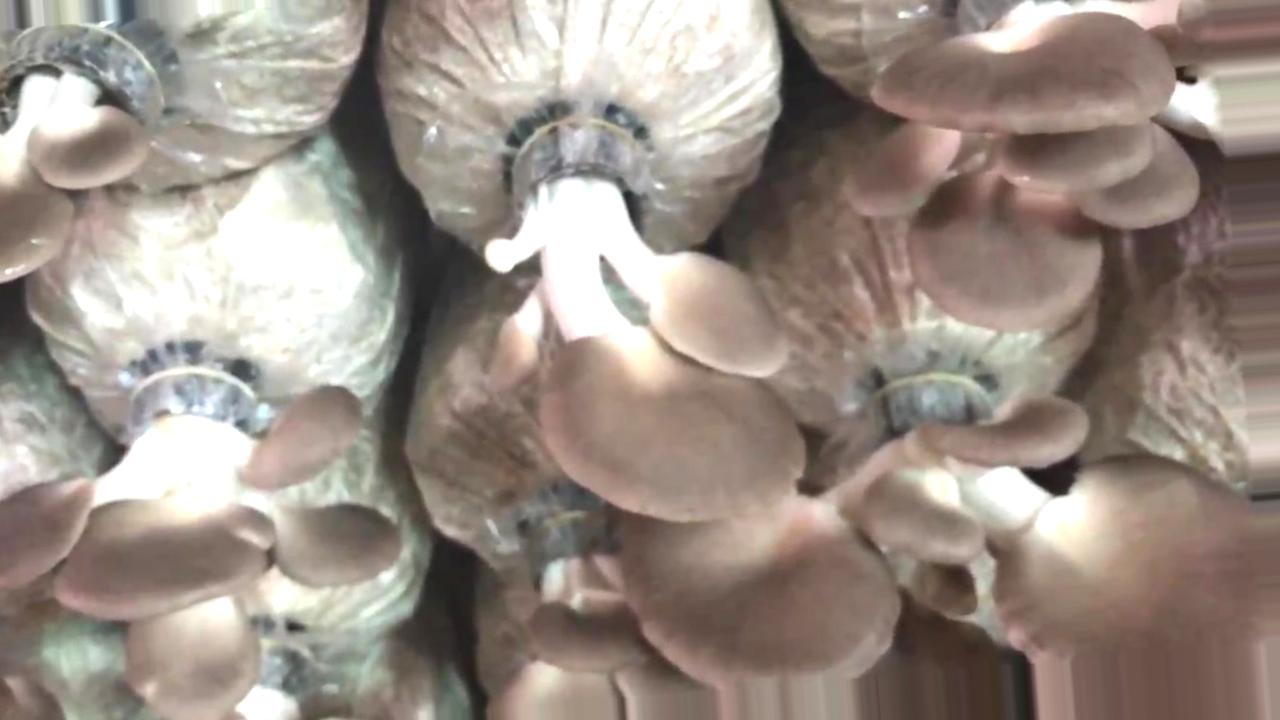nam: (621, 366, 1263, 720), (475, 95, 809, 524), (1, 368, 405, 718), (842, 1, 1202, 335), (1, 24, 167, 287), (523, 495, 652, 682)
